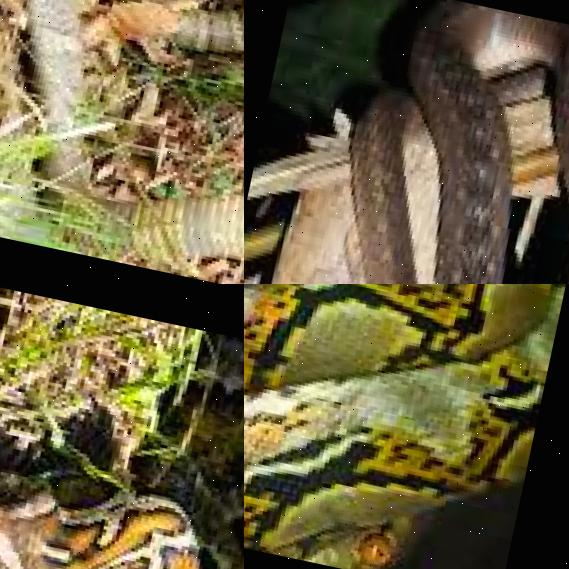snake: (244, 284, 569, 569), (258, 0, 569, 284), (0, 284, 244, 569), (0, 0, 244, 284)
